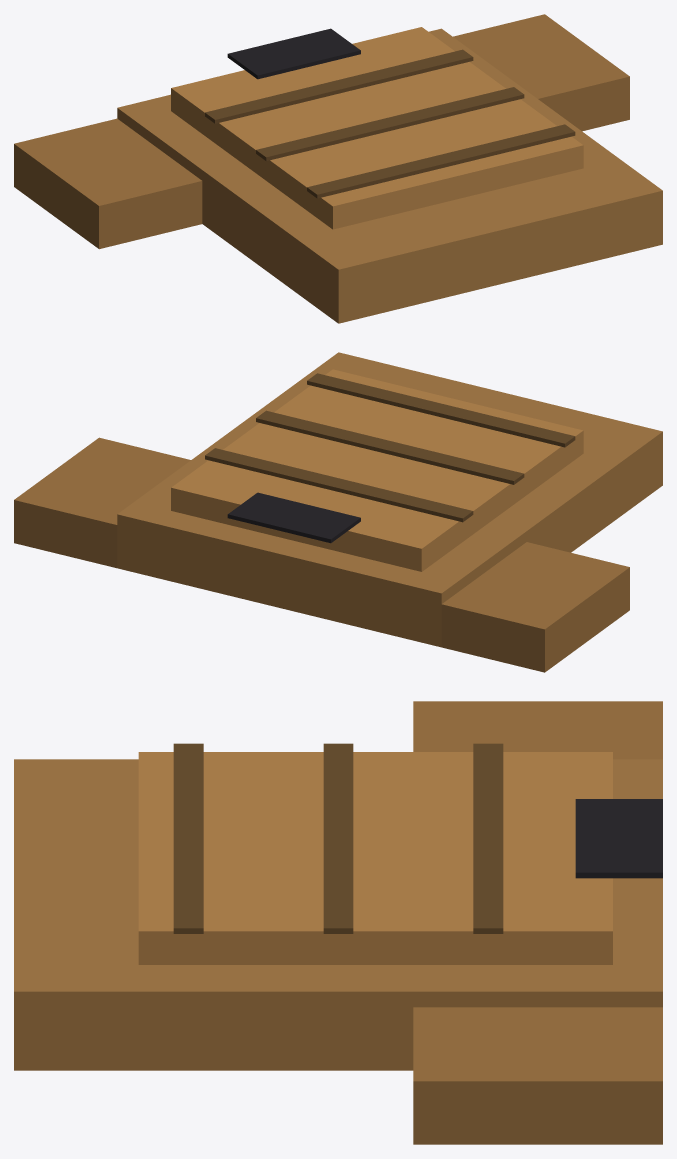
File: padded_tunic.glb
3 views of the same model, one above another, from view 1: azimuth 30°, elevation 25°; view 2: azimuth 150°, elevation 25°; view 3: azimuth 270°, elevation 25° (orthographic). The views are drawn at different scales.
Visible parts, largest first — view 1: padded_tunic; view 2: padded_tunic; view 3: padded_tunic.
Part boxes in pixels (left/top/right/bottom): padded_tunic: left=14, top=14, right=662, bottom=323; padded_tunic: left=14, top=352, right=662, bottom=672; padded_tunic: left=14, top=701, right=662, bottom=1144.
Size of the model in its own units: 0.9 by 0.1312 by 0.65.
